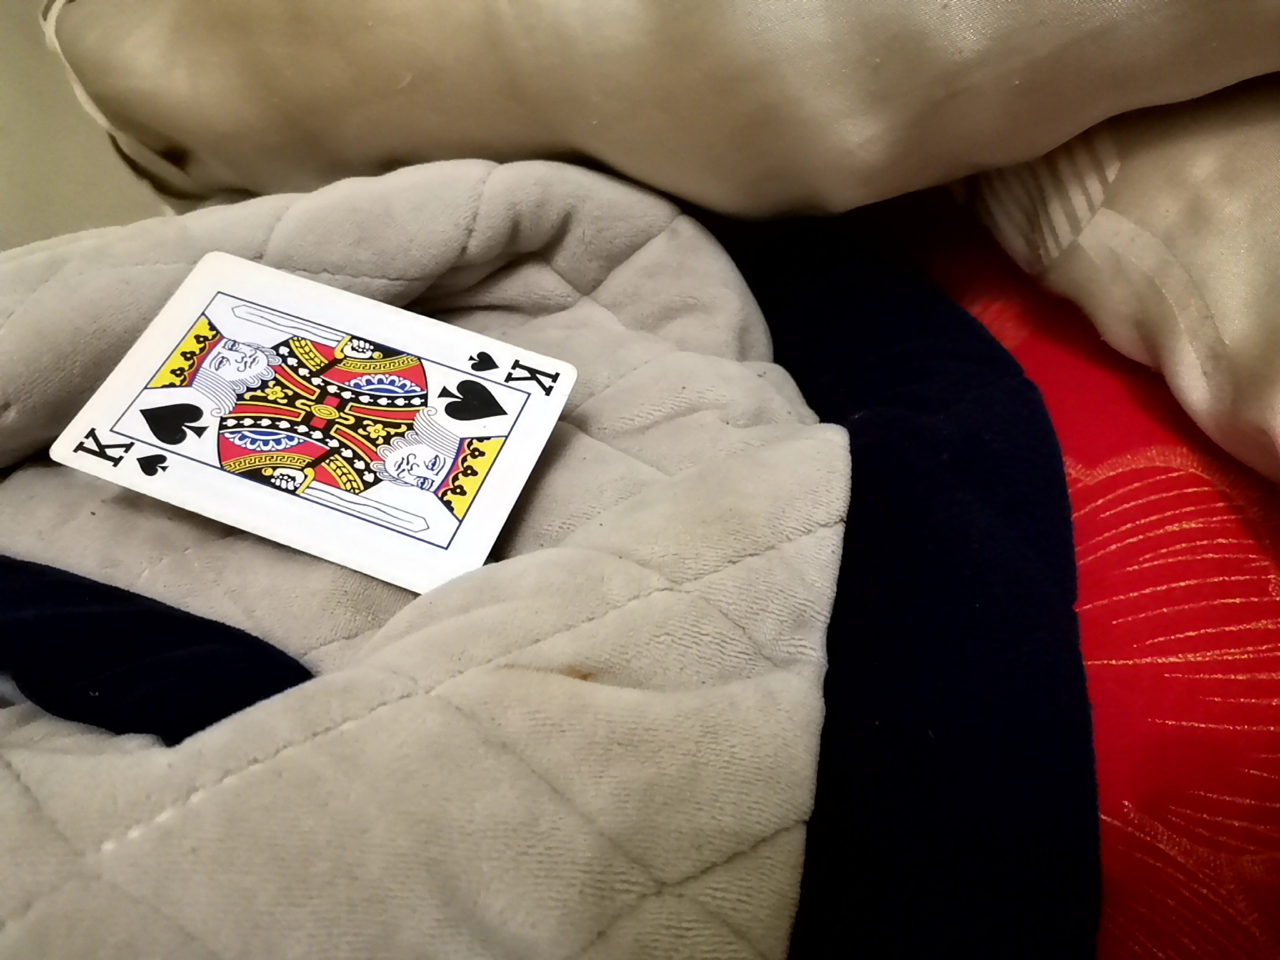ht k: (19, 252, 586, 583)
